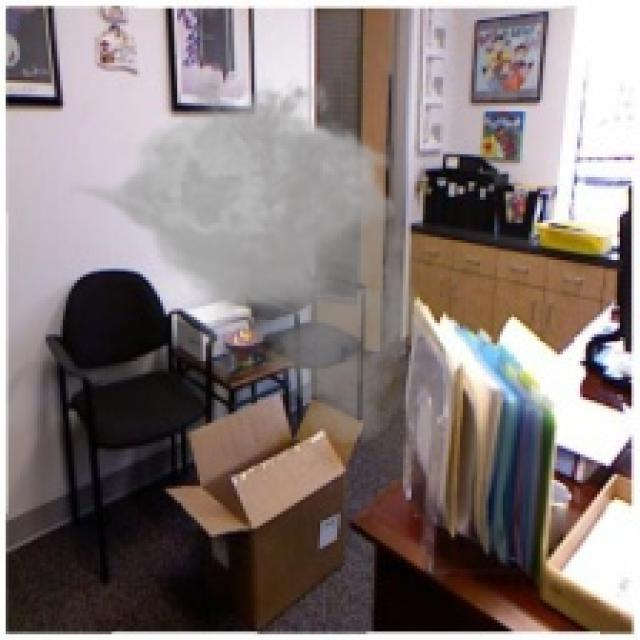Smoke: (66, 54, 434, 452)
